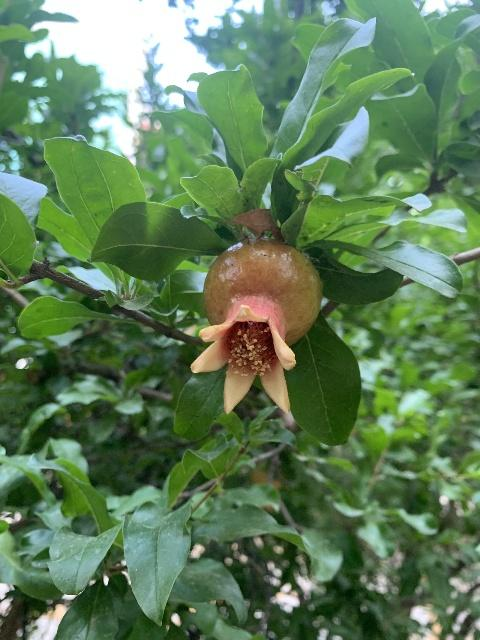early-fruit: (189, 240, 322, 416)
